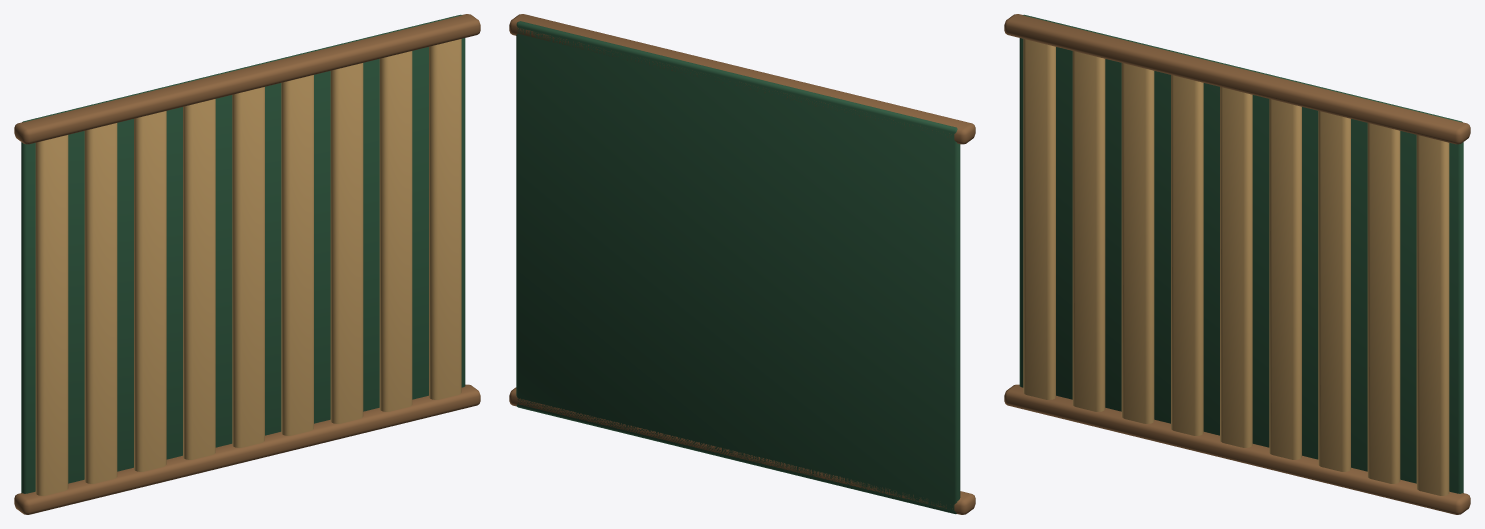
The model's file is wall_panel.glb.
3 views of the same model, side by side, from view 1: azimuth 30°, elevation 25°; view 2: azimuth 150°, elevation 25°; view 3: azimuth 330°, elevation 25° (orthographic).
Visible parts, largest first — view 1: wall_panel; view 2: wall_panel; view 3: wall_panel.
Part boxes in pixels (x1,y1,x2,y2): wall_panel: (14,14,480,514); wall_panel: (509,14,975,514); wall_panel: (1004,14,1470,514).
Size of the model in its own units: 1.24 by 1 by 0.06.
Materials: 1 (1 with a texture image).
